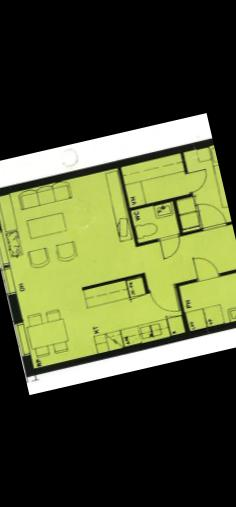door: (191, 196, 228, 236), (146, 283, 180, 320), (187, 250, 220, 284), (180, 162, 212, 195), (152, 231, 184, 261), (0, 265, 15, 296)
window: (12, 316, 32, 358), (0, 225, 14, 269)
